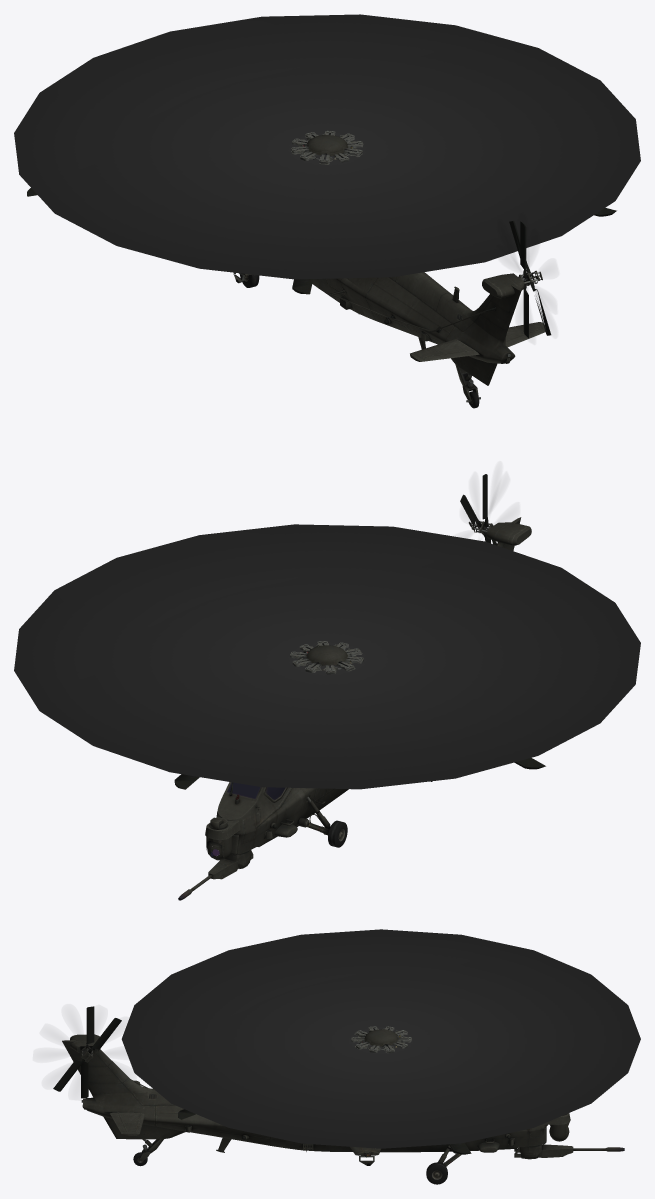
3 renders of one model, top to bottom at view 1: azimuth 30°, elevation 25°; view 2: azimuth 150°, elevation 25°; view 3: azimuth 270°, elevation 25°, orthographic. The views are drawn at different scales.
Parts seen in each view (by area): view 1: A_z10w_v2; view 2: A_z10w_v2; view 3: A_z10w_v2.
Part boxes in pixels (left/top/right/bottom): A_z10w_v2: left=14, top=14, right=640, bottom=408; A_z10w_v2: left=14, top=474, right=640, bottom=900; A_z10w_v2: left=53, top=929, right=640, bottom=1184.
Bounding box in the file's own units: 32.81 × 13.07 × 39.62.
Materials: 4 (4 with a texture image).
